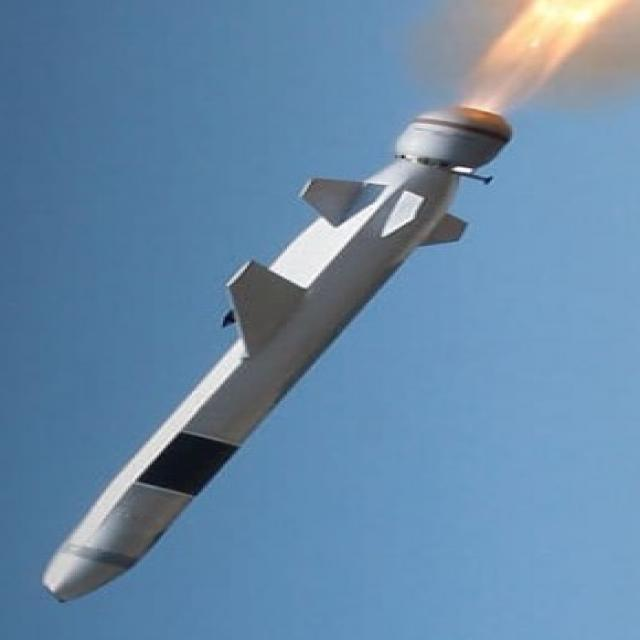missile: (41, 103, 512, 600)
